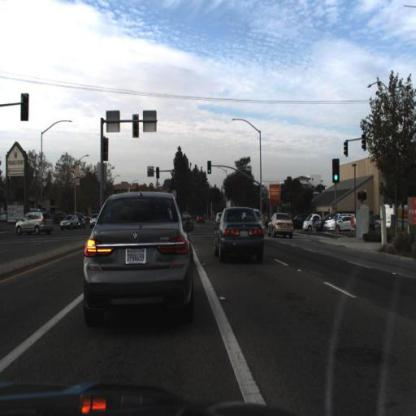car: (86, 198, 191, 319), (216, 205, 279, 278), (17, 210, 55, 240), (268, 211, 295, 242), (326, 214, 360, 233), (303, 210, 322, 234), (62, 213, 80, 228), (196, 210, 207, 226), (180, 207, 190, 224), (89, 213, 98, 229)
trafficLight: (131, 113, 141, 138), (360, 129, 369, 155), (22, 94, 30, 123), (103, 138, 111, 161), (343, 141, 351, 158)
trafficLight-Green: (332, 160, 340, 183), (206, 160, 214, 177), (168, 179, 174, 193), (156, 167, 161, 181)
